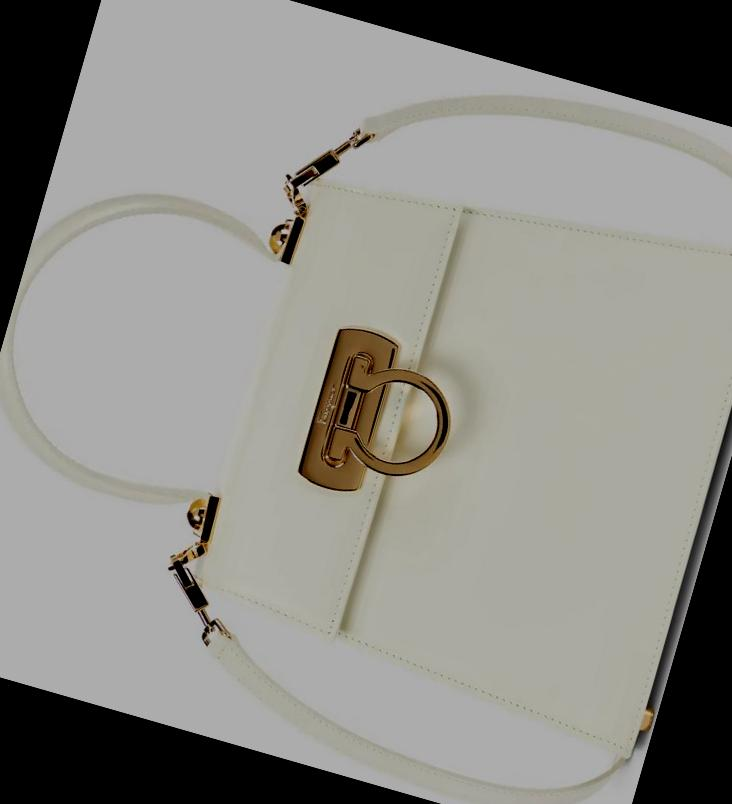FERRAGAMO: (280, 309, 477, 521)
